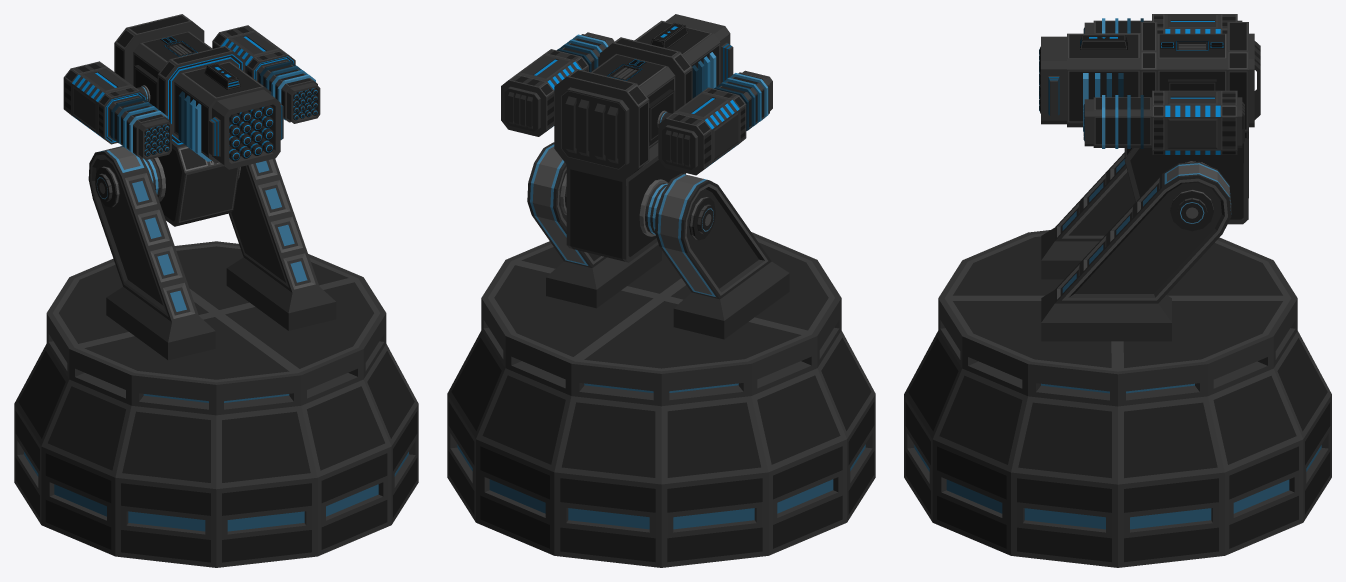
3 renders of one model, left to right at view 1: azimuth 30°, elevation 25°; view 2: azimuth 150°, elevation 25°; view 3: azimuth 270°, elevation 25°, orthographic. The views are drawn at different scales.
Parts seen in each view (by area): view 1: PTR, NTR, TR1, TRD2, Cylinder067; view 2: PTR, TR1, NTR, TRD2; view 3: PTR, NTR, TR1, TRD2.
Part boxes in pixels (x1,y1,x2,y2): PTR: (14,241,418,567); NTR: (88,146,336,360); TR1: (114,14,283,226); TRD2: (63,25,320,159); Cylinder067: (229,105,273,161); PTR: (447,232,875,567); TR1: (554,14,733,262); NTR: (527,142,789,339); TRD2: (501,32,772,175); PTR: (904,230,1331,567); NTR: (1041,152,1231,341); TR1: (1041,22,1260,224); TRD2: (1083,14,1244,154).
Bounding box in the file's own units: 782 × 888 × 782.
